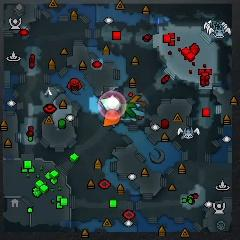Other: (106, 95, 120, 109)
p2: (101, 97, 119, 111)
p5: (103, 109, 121, 127)
x3: (130, 103, 146, 122)
x4: (121, 103, 136, 118)
x5: (129, 95, 147, 107)
